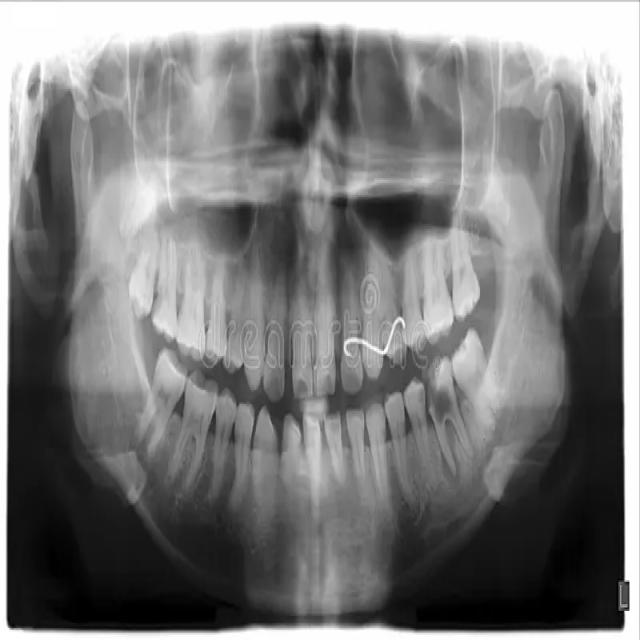Caries: (426, 358, 470, 483)
